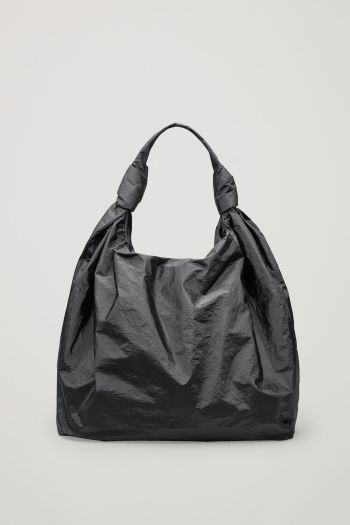nylon: (56, 123, 300, 441)
